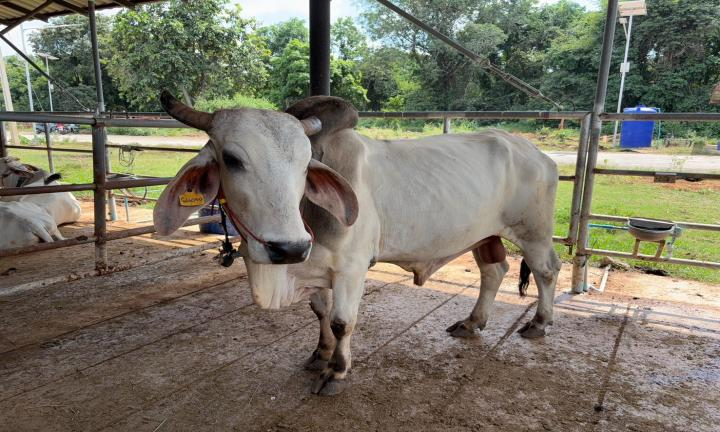Brahman: (154, 90, 561, 395)
